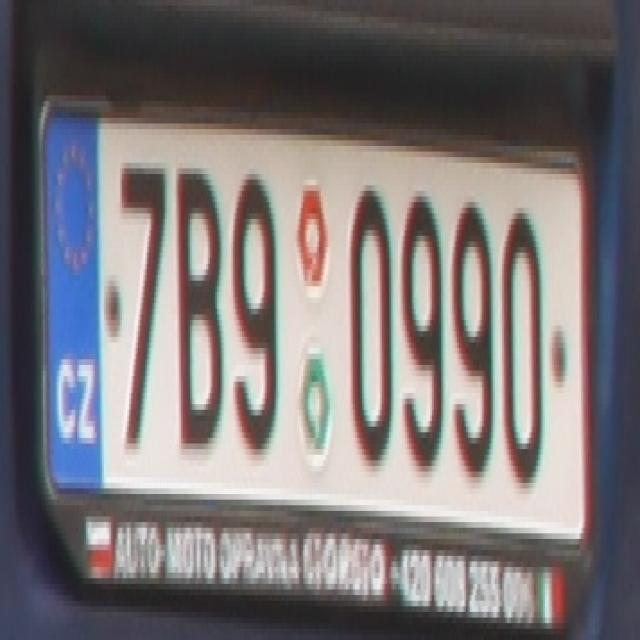0: (498, 202, 544, 489), (348, 180, 394, 460)
7: (116, 152, 166, 444)
9: (229, 151, 278, 438), (396, 185, 443, 460), (448, 190, 493, 472)
B: (173, 162, 220, 444)
